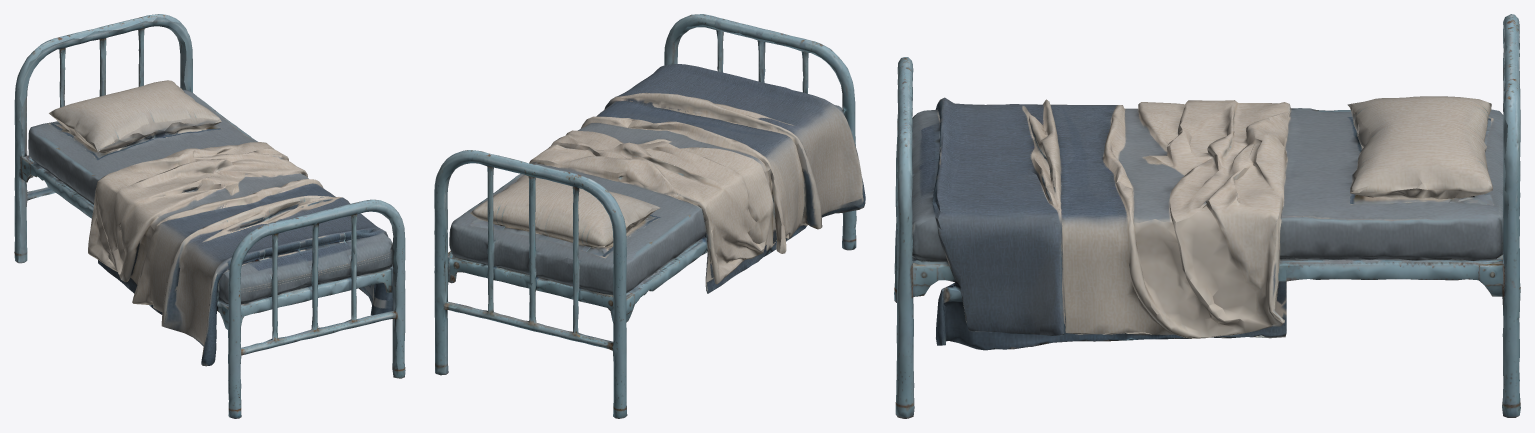
Rendered from S1_IsolationBed.fbx.
3 views of the same model, side by side, from view 1: azimuth 30°, elevation 25°; view 2: azimuth 150°, elevation 25°; view 3: azimuth 270°, elevation 25° (orthographic). The views are drawn at different scales.
Parts seen in each view (by area): view 1: S1_IsolationBed_LOD0; view 2: S1_IsolationBed_LOD0; view 3: S1_IsolationBed_LOD0.
Boxes of the visible parts, box(x1,y1,x2,y2) form: S1_IsolationBed_LOD0: box(14, 14, 405, 418); S1_IsolationBed_LOD0: box(434, 14, 865, 418); S1_IsolationBed_LOD0: box(894, 14, 1520, 418).
Size of what is drawn, in the model's own units: 113 by 110 by 205.
